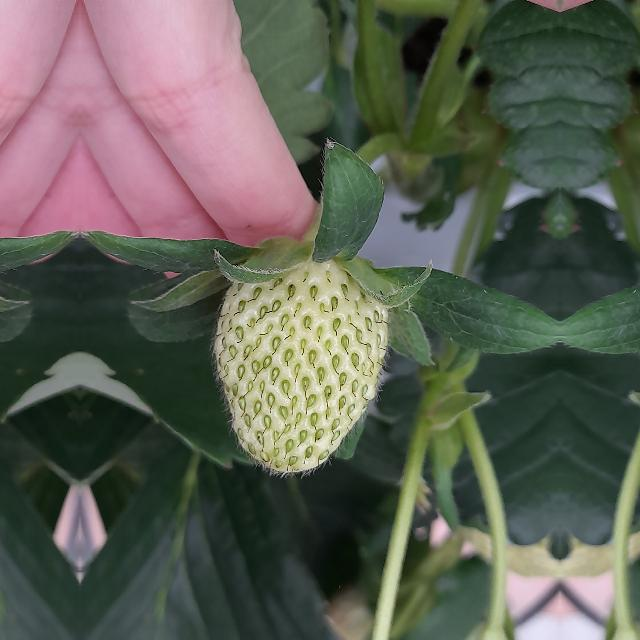Health_25: (215, 258, 388, 472)
